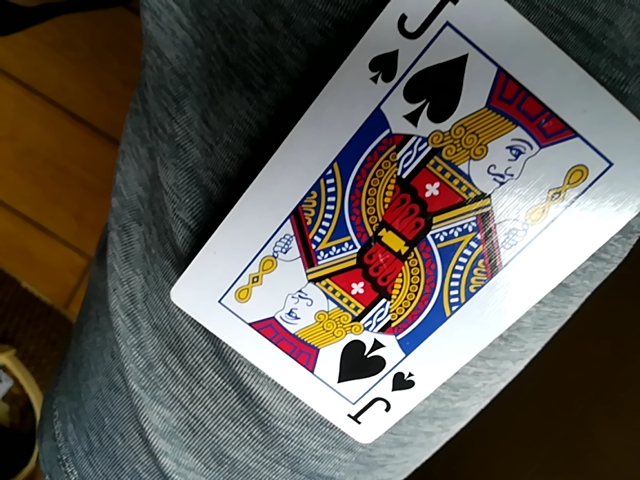ht j: (158, 8, 638, 445)
